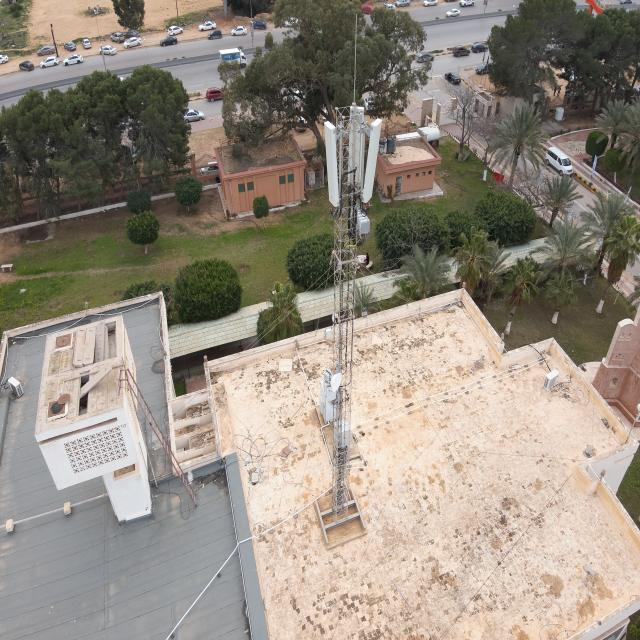antenna: (362, 116, 383, 205), (323, 118, 341, 208), (347, 104, 366, 185)
lighnig-rad: (353, 13, 358, 105)
microware-dish: (323, 366, 345, 393)
power-box: (322, 378, 338, 402)
radio-unit: (354, 204, 371, 238)
